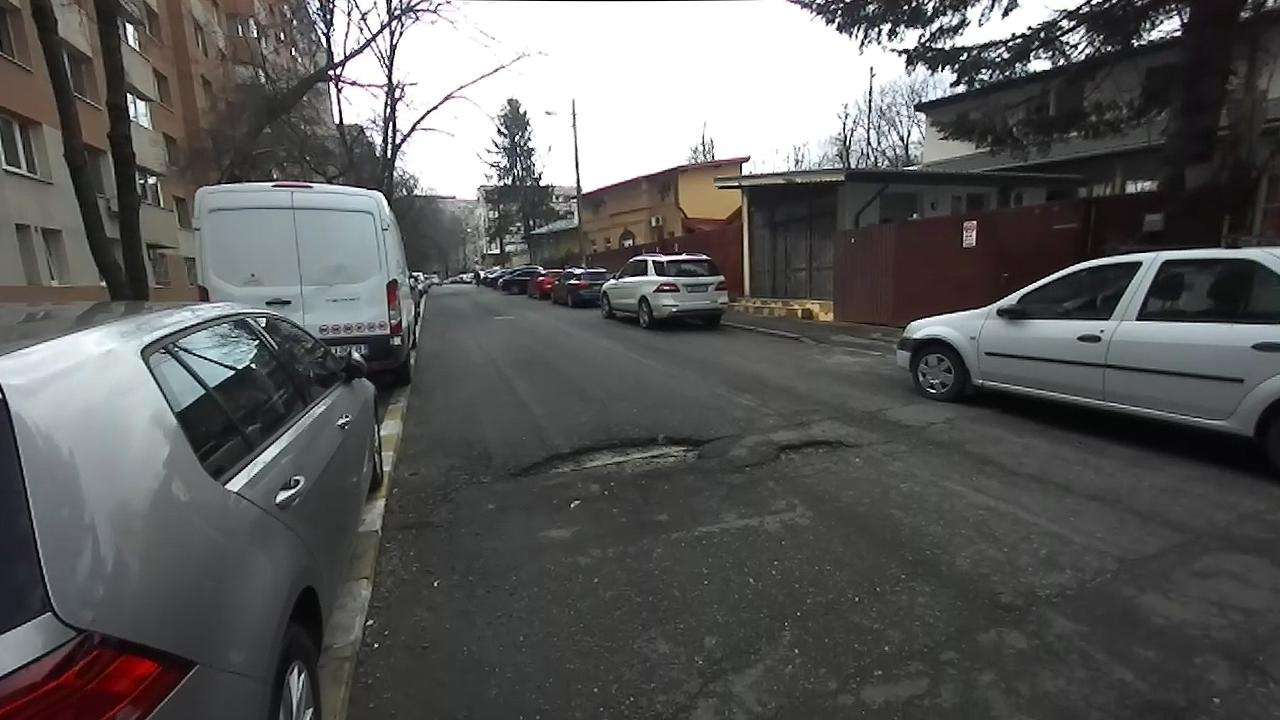pothole: (496, 427, 732, 488), (739, 432, 858, 472)
